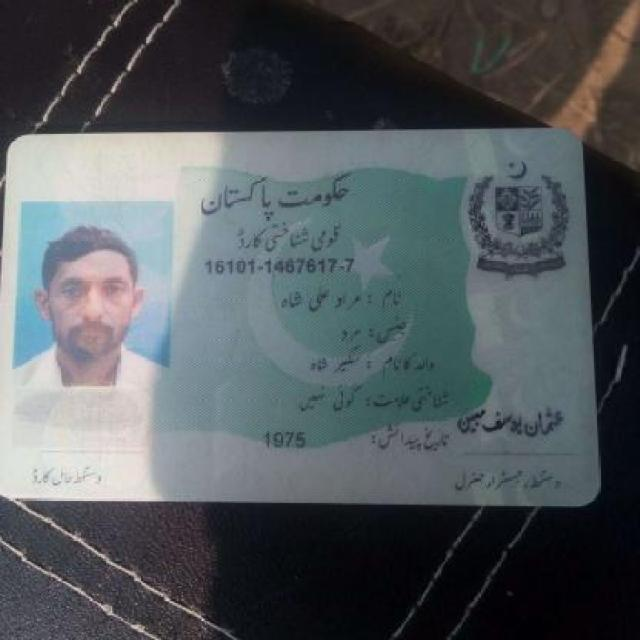Front: (8, 120, 606, 512)
